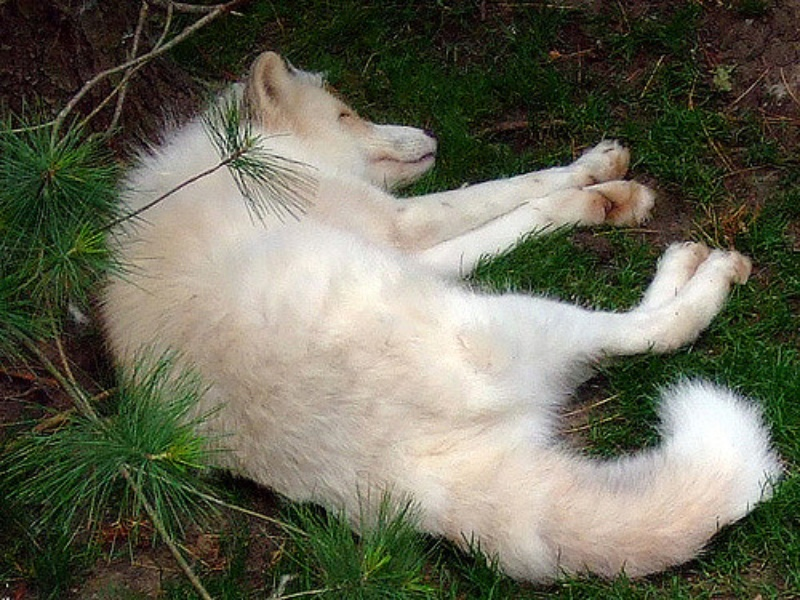fox: (79, 50, 777, 573)
